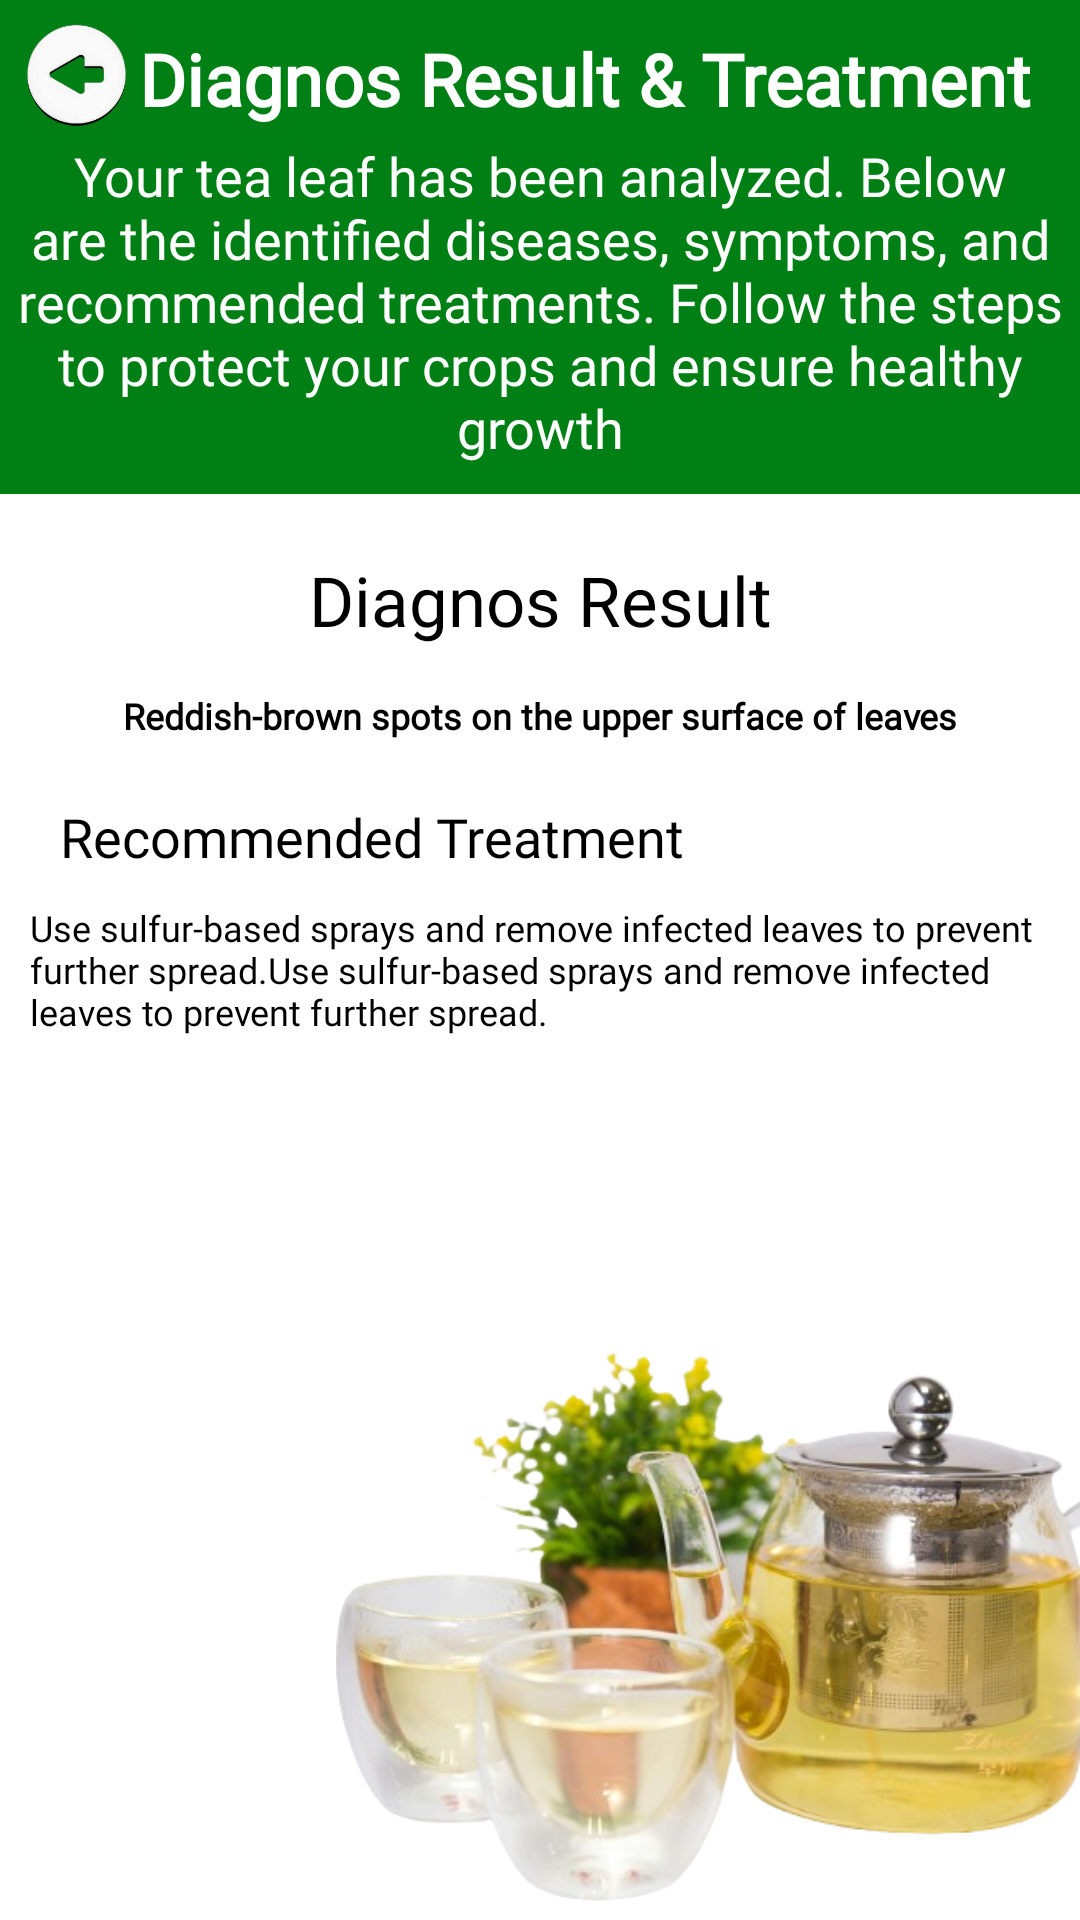

Icons on this 1080×1920 Android screen, each with the point to tap as (x=x, y=y):
back: (x=76, y=75)
